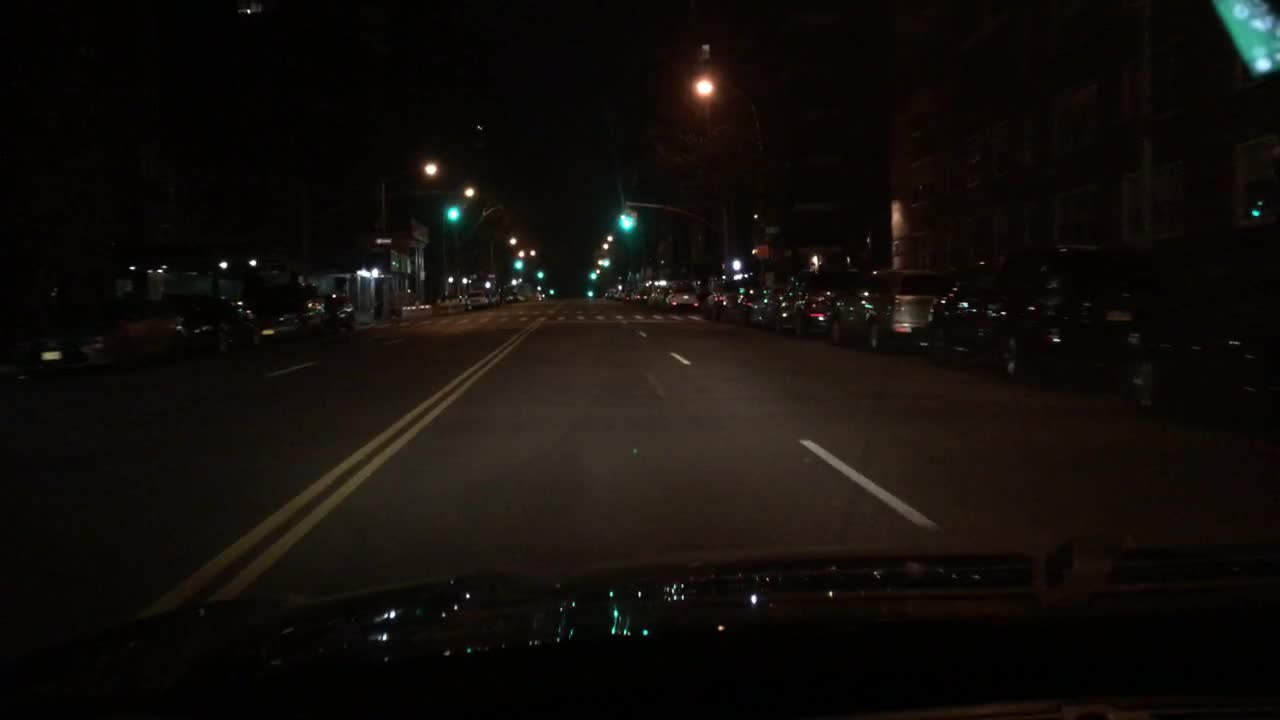car: (922, 242, 1150, 381), (1129, 281, 1277, 436), (31, 298, 189, 370), (822, 266, 952, 351), (160, 282, 268, 348), (238, 279, 333, 343), (751, 280, 797, 334), (699, 280, 756, 322), (783, 288, 831, 328), (323, 292, 361, 331), (660, 285, 702, 309), (462, 290, 493, 312), (642, 284, 662, 305), (500, 287, 526, 303), (625, 288, 649, 304), (487, 290, 505, 305), (614, 285, 626, 303), (602, 290, 616, 298)
traffic light: (1252, 188, 1259, 216), (620, 213, 631, 230), (448, 207, 459, 222), (515, 258, 522, 268)
traffic sign: (372, 238, 391, 243)
